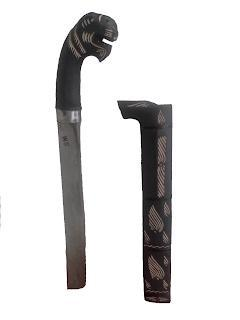espada: (56, 12, 117, 288)
